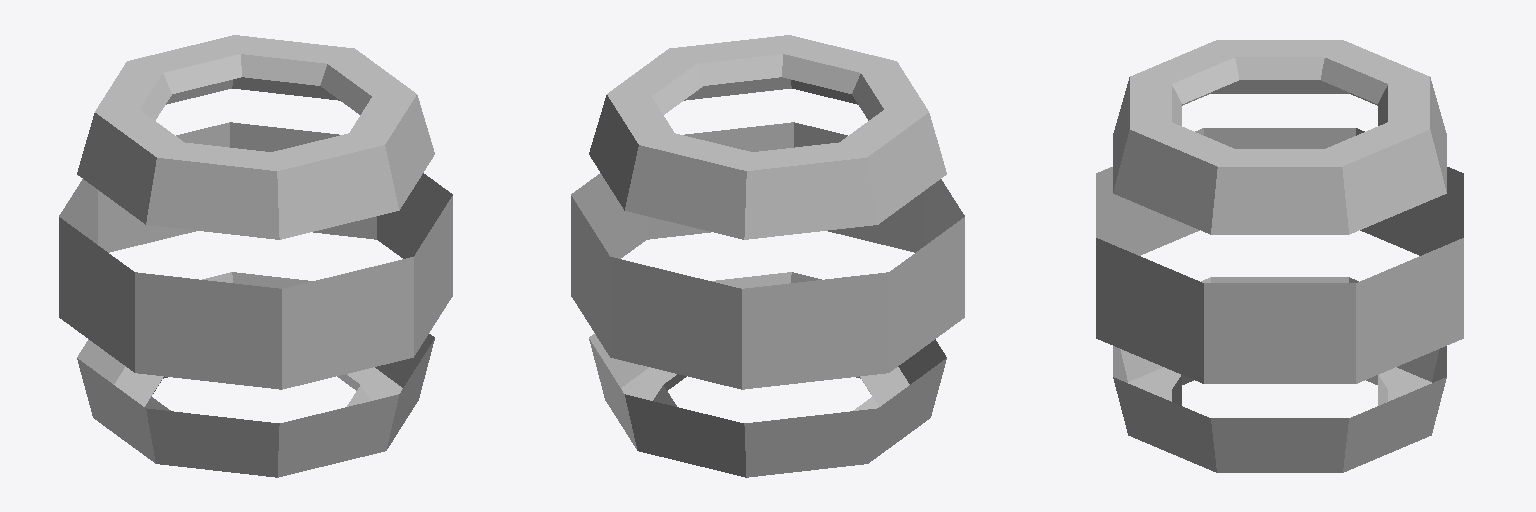
File: barrel.obj
3 views of the same model, side by side, from view 1: azimuth 30°, elevation 25°; view 2: azimuth 150°, elevation 25°; view 3: azimuth 270°, elevation 25° (orthographic).
Bounding box in the file's own units: 0.4358 × 0.4002 × 0.4358.